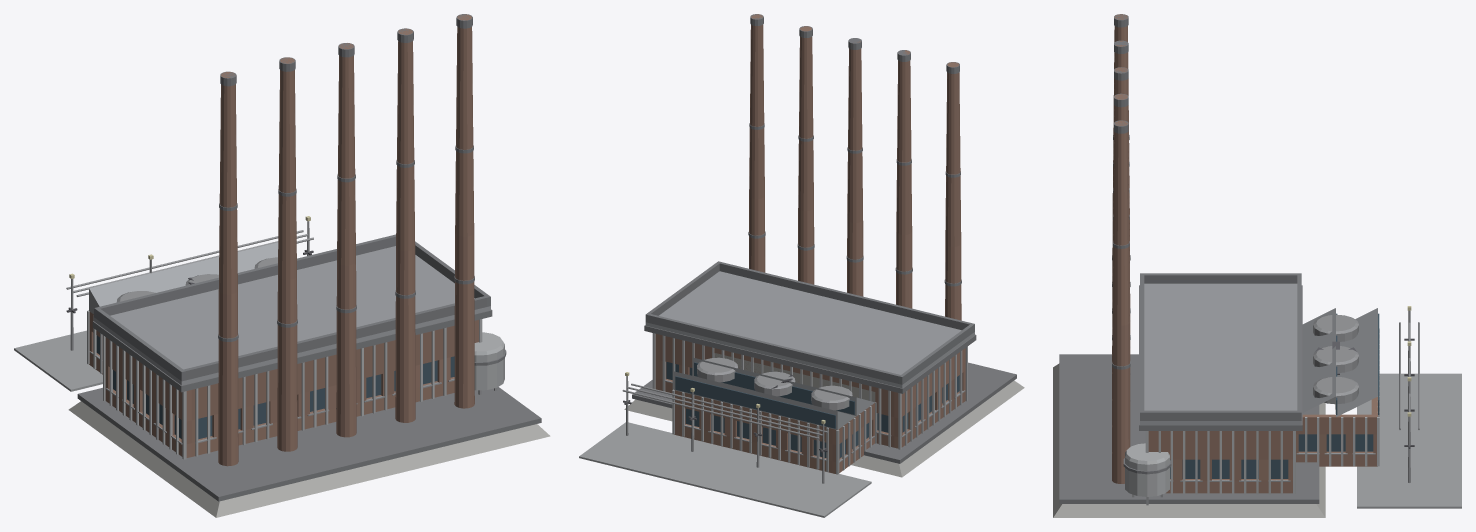
The model's file is chinese_power.glb.
3 views of the same model, side by side, from view 1: azimuth 30°, elevation 25°; view 2: azimuth 150°, elevation 25°; view 3: azimuth 270°, elevation 25° (orthographic). The views are drawn at different scales.
Parts seen in each view (by area): view 1: plinth_cap, hall_deck, hall_wall, plinth, stack_0, stack_3, stack_1, stack_l, stack_4, hall_parapet, hall_ribs, annex_saw (+5 smaller); view 2: hall_deck, yard_paint, hall_parapet, annex_wall, hall_wall, hall_ribs, stack_1, stack_l, stack_0, stack_3, stack_4, plinth_cap (+11 smaller); view 3: hall_deck, plinth_cap, yard_paint, stack_4, hall_wall, plinth, hall_parapet, annex_saw, annex_wall, hall_ribs, water_tower, hall_fascia (+11 smaller).
Boxes of the visible parts, box(x1,y1,x2,y2) form: plinth_cap: box(77, 387, 541, 501); hall_deck: box(94, 246, 490, 385); hall_wall: box(105, 320, 478, 457); plinth: box(68, 401, 550, 517); stack_0: box(218, 71, 238, 466); stack_3: box(395, 28, 415, 422); stack_1: box(277, 57, 297, 451); stack_l: box(336, 43, 356, 437); stack_4: box(454, 14, 474, 408); hall_parapet: box(94, 234, 490, 381); hall_ribs: box(103, 319, 482, 459); annex_saw: box(89, 242, 278, 314); hall_deck: box(645, 271, 974, 388); yard_paint: box(579, 422, 871, 517); hall_parapet: box(645, 261, 974, 384); annex_wall: box(674, 390, 874, 473); hall_wall: box(655, 334, 965, 448); hall_ribs: box(652, 333, 967, 449); stack_1: box(895, 50, 912, 308); stack_l: box(846, 38, 863, 296); stack_0: box(944, 62, 961, 320); stack_3: box(797, 26, 814, 284); stack_4: box(748, 14, 765, 272); plinth_cap: box(632, 362, 1016, 463); hall_deck: box(1140, 283, 1301, 424); plinth_cap: box(1059, 354, 1319, 503); yard_paint: box(1357, 373, 1461, 508); stack_4: box(1112, 120, 1130, 483); hall_wall: box(1148, 431, 1292, 493); plinth: box(1053, 363, 1325, 517); hall_parapet: box(1140, 273, 1301, 420); annex_saw: box(1302, 308, 1377, 416); annex_wall: box(1296, 397, 1377, 466); hall_ribs: box(1145, 431, 1295, 494); water_tower: box(1123, 443, 1171, 505); hall_fascia: box(1139, 285, 1302, 430).
Size of the model in its own units: 34.33 by 40.05 by 39.
